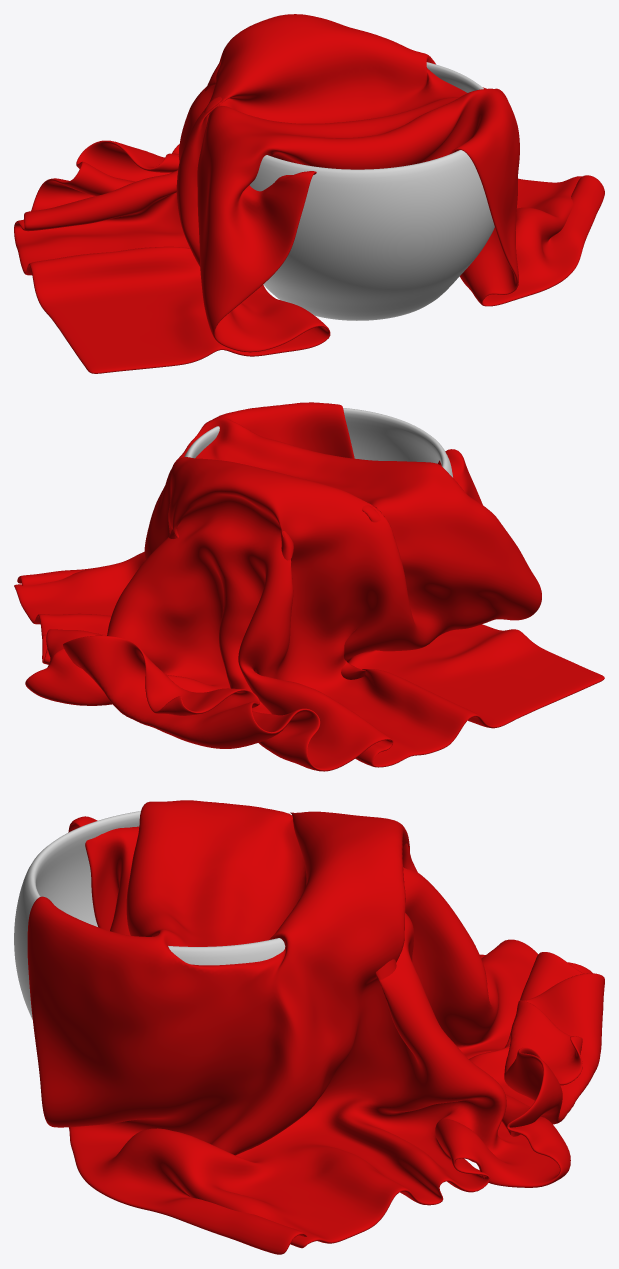
The model's file is myMUG.fbx.
3 views of the same model, one above another, from view 1: azimuth 30°, elevation 25°; view 2: azimuth 150°, elevation 25°; view 3: azimuth 270°, elevation 25° (orthographic). The views are drawn at different scales.
Visible parts, largest first — view 1: Plane.001, Sphere; view 2: Plane.001, Sphere; view 3: Plane.001, Sphere.
Boxes of the visible parts, x1=… form: Plane.001: x1=14, y1=14, x2=604, y2=373; Sphere: x1=250, y1=62, x2=494, y2=320; Plane.001: x1=14, y1=402, x2=604, y2=771; Sphere: x1=184, y1=408, x2=452, y2=477; Plane.001: x1=27, y1=800, x2=604, y2=1254; Sphere: x1=14, y1=811, x2=285, y2=1019.
Bounding box in the file's own units: 429 × 156 × 318.
